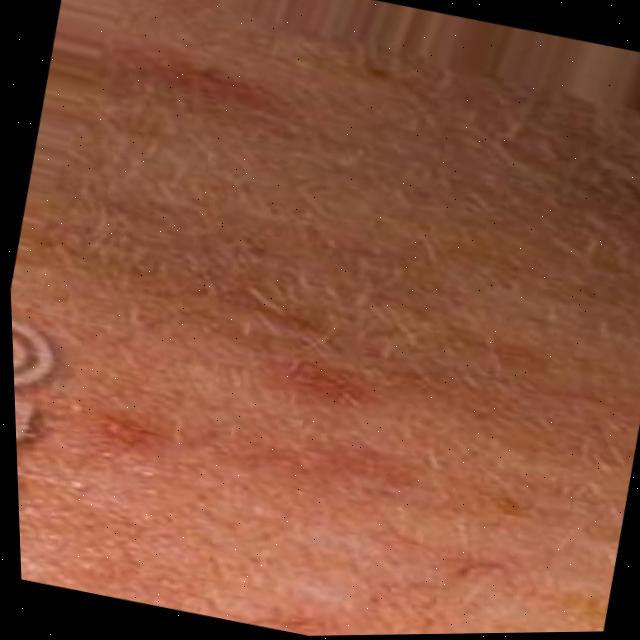Rosacea: (11, 294, 441, 574)
